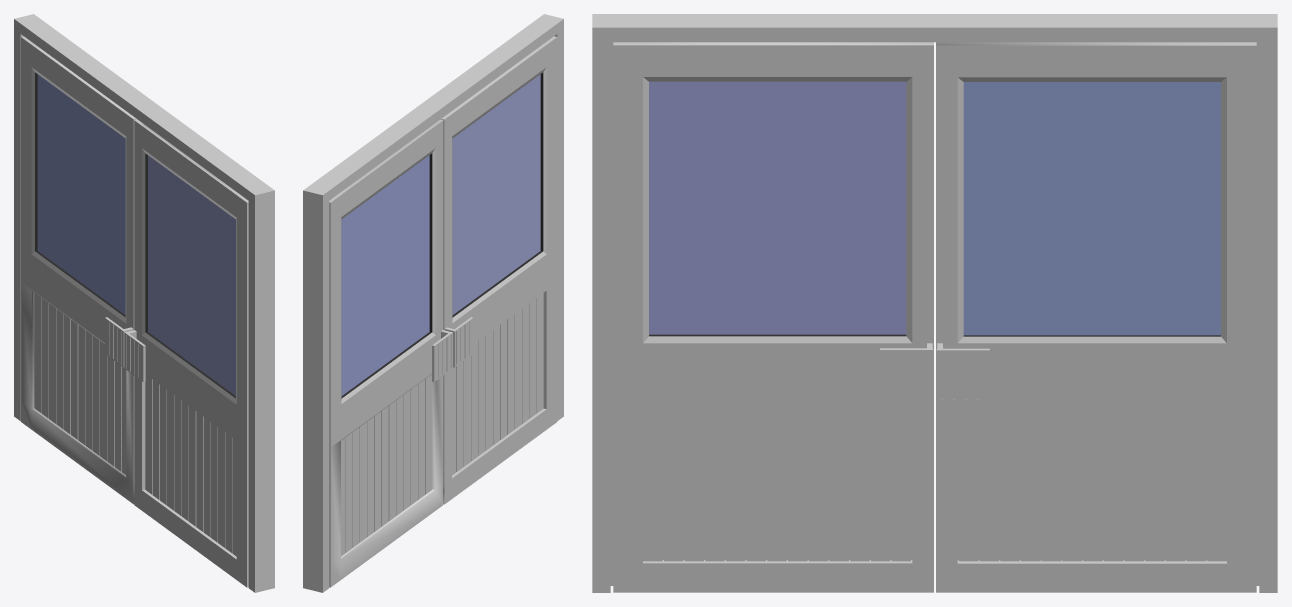
Rendered from aluminDoor.fbx.
3 renders of one model, left to right at view 1: azimuth 30°, elevation 25°; view 2: azimuth 150°, elevation 25°; view 3: azimuth 270°, elevation 25°, orthographic. The views are drawn at different scales.
Parts seen in each view (by area): view 1: door1, door2, gate; view 2: door2, door1, gate; view 3: door1, door2, gate.
Part boxes in pixels (left/top/right/bottom): door1: left=124, top=119, right=248, bottom=587; door2: left=21, top=36, right=137, bottom=504; gate: left=14, top=14, right=274, bottom=592; door2: left=329, top=119, right=453, bottom=587; door1: left=440, top=36, right=557, bottom=504; gate: left=303, top=14, right=563, bottom=592; door1: left=613, top=42, right=933, bottom=592; door2: left=936, top=42, right=1256, bottom=592; gate: left=592, top=14, right=1277, bottom=592.
Bounding box in the file's own units: 51.61 × 489 × 538.
